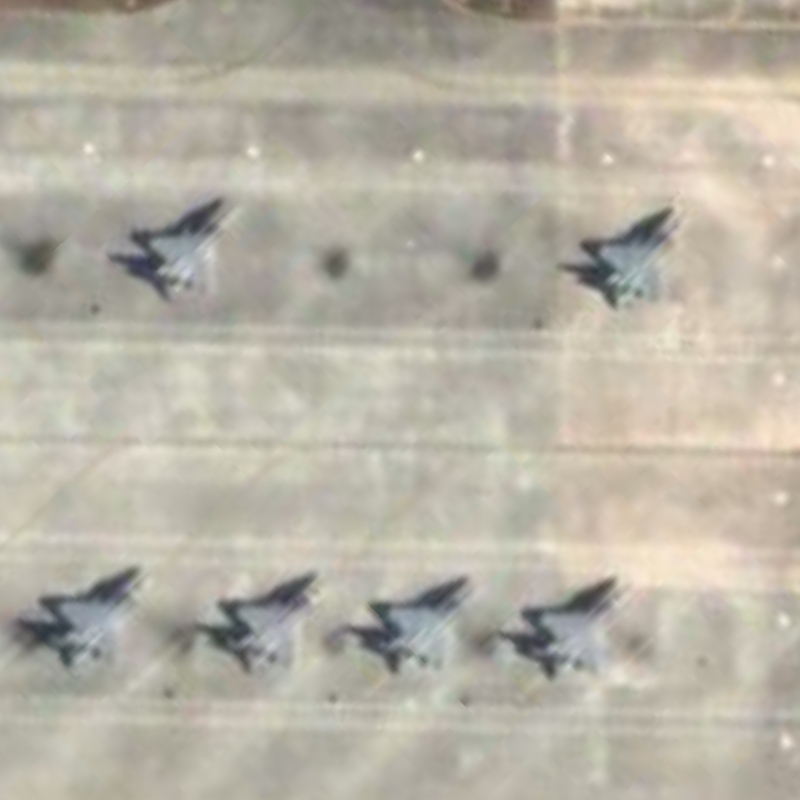A13: (208, 565, 329, 682), (519, 572, 639, 686), (34, 555, 148, 675), (132, 192, 246, 309), (364, 573, 476, 682), (583, 200, 690, 314)
